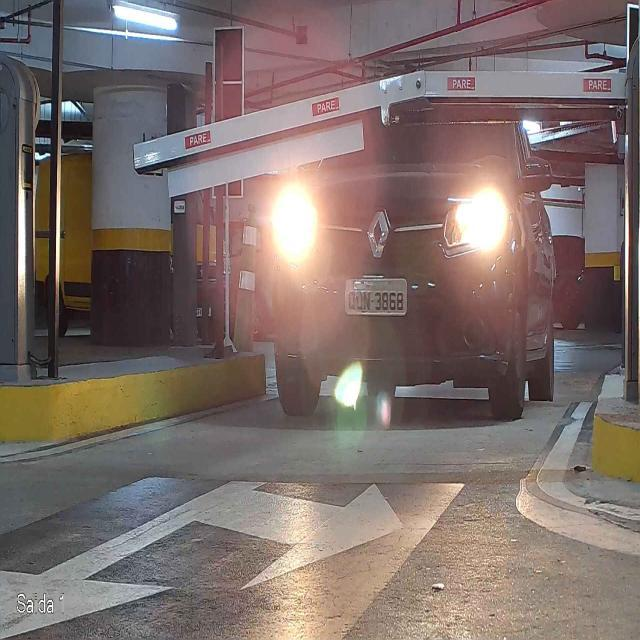old_plate: (343, 276, 409, 318)
